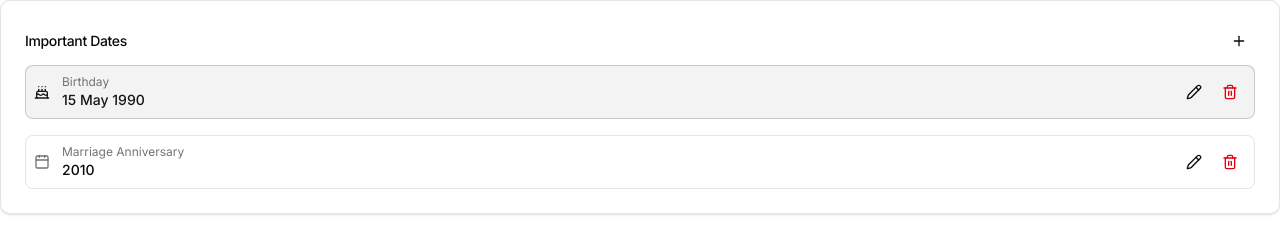
ImportantDatesList › restores the row when an edit is cancelled
Click the button named "Edit birthday". click: {"x": 1194, "y": 92}
box: [1178,76,1210,108]
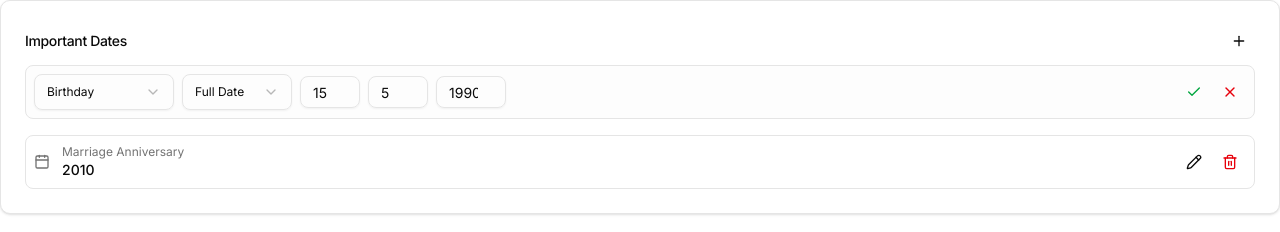
Click the button named "Cancel edit". click: {"x": 1230, "y": 92}
box: [1214,76,1246,108]
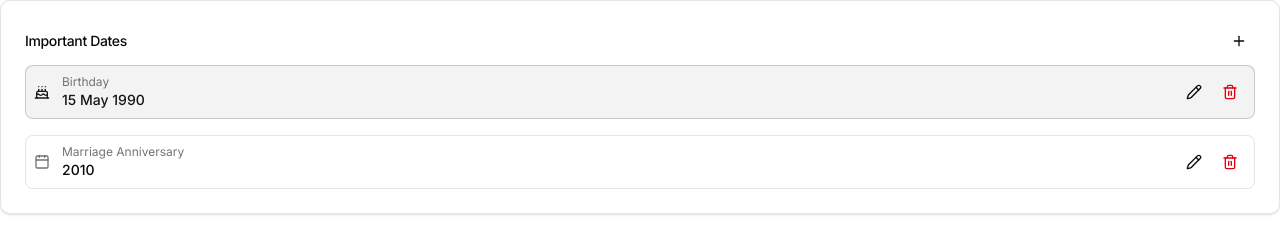
Result: the button named "Edit birthday" is shown at [1178,76,1210,108]
